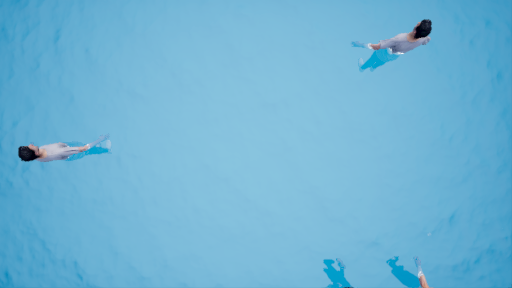person: (346, 12, 445, 78), (15, 135, 130, 164), (390, 250, 435, 288)
